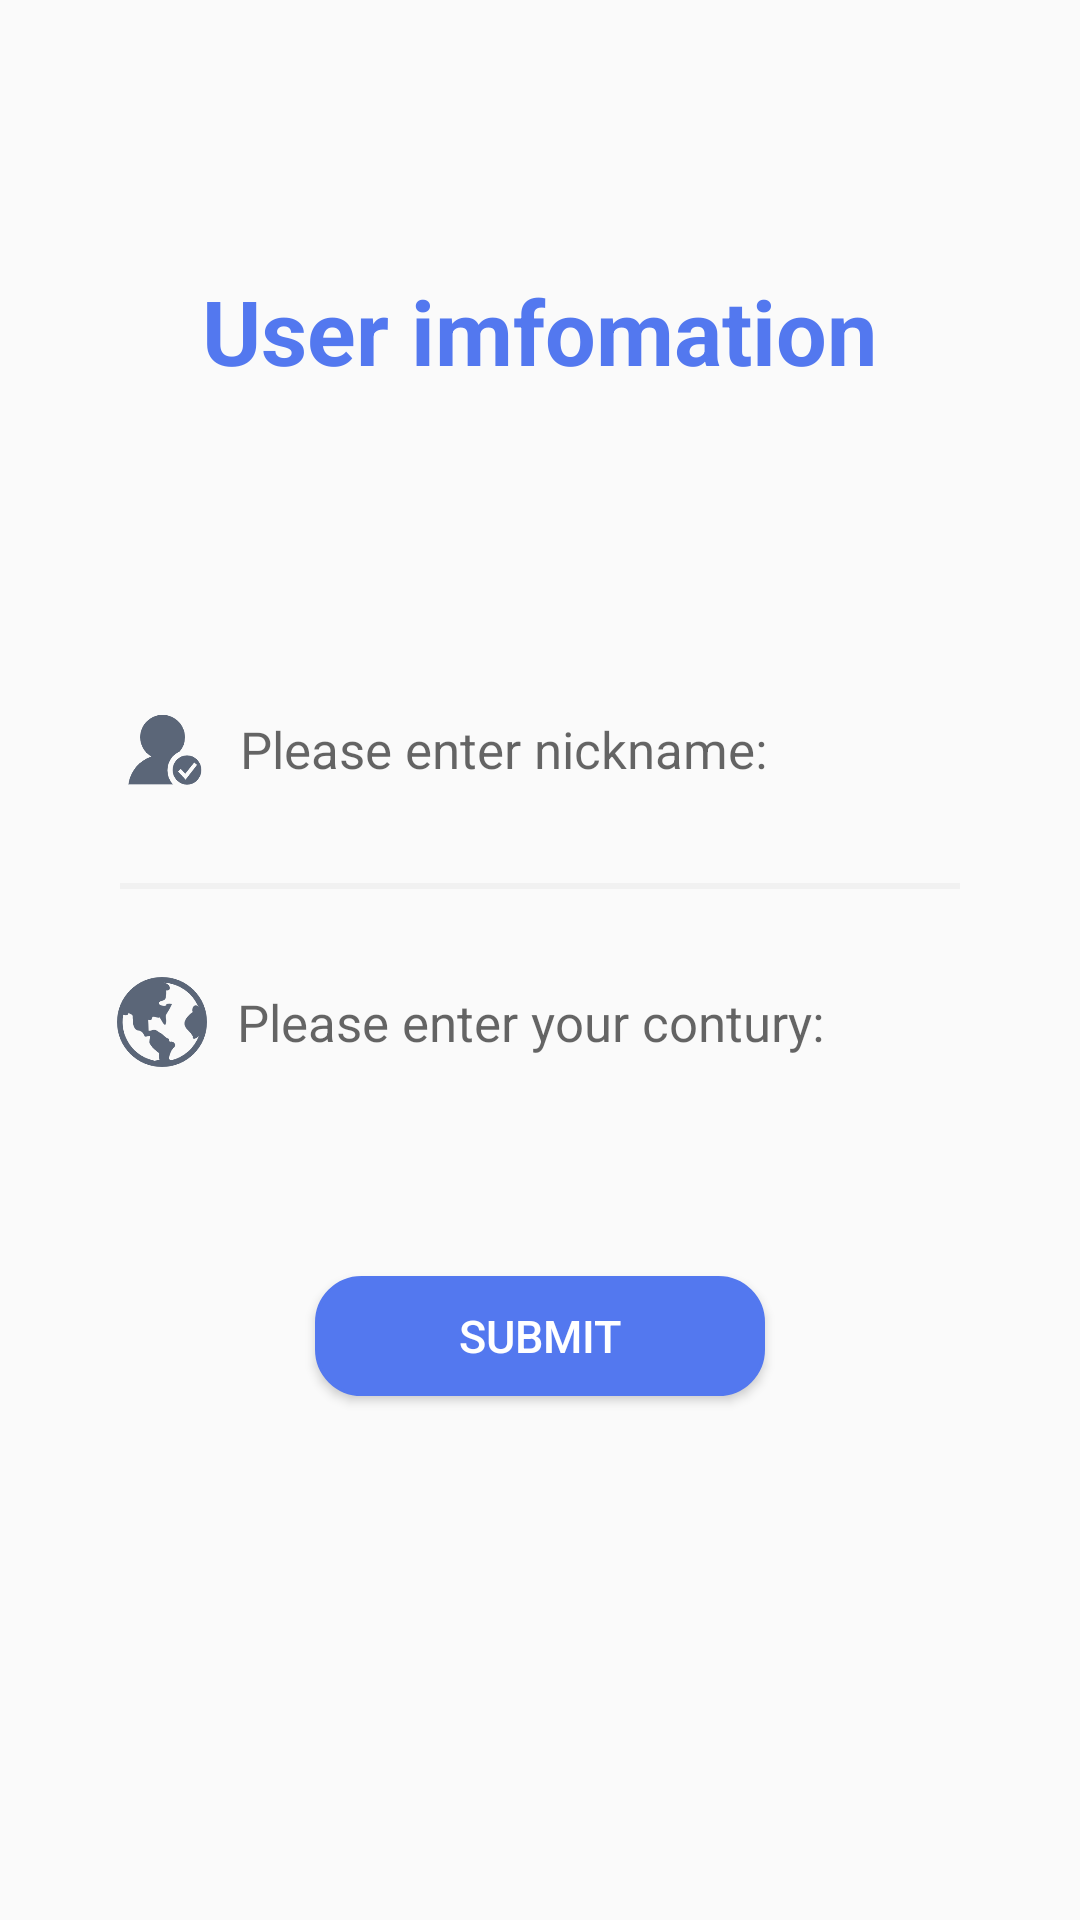

Named icons in this screenshot (1080×1920) and their bounding boxes, (x1, y1, x2, y2):
language: (117, 977, 207, 1067)
